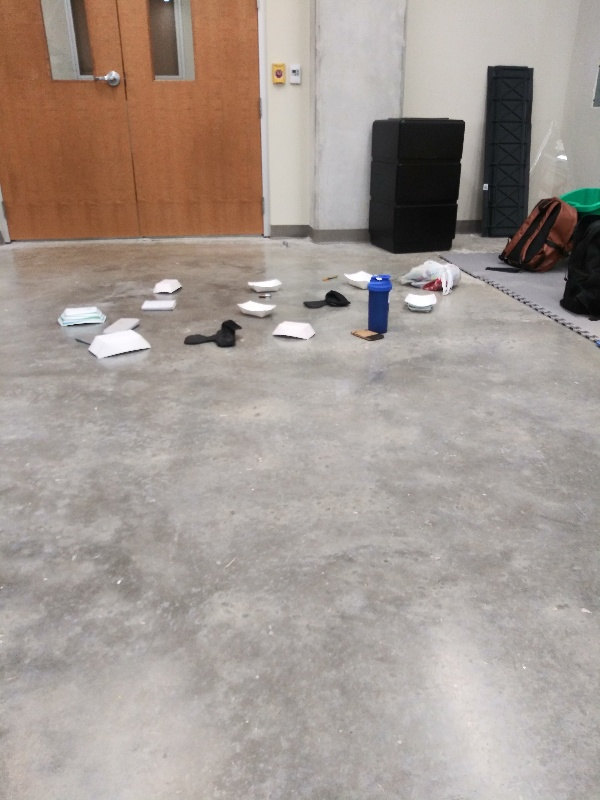plate: (83, 326, 154, 364), (52, 306, 115, 332), (271, 317, 319, 345), (400, 287, 442, 316), (231, 296, 281, 319), (147, 274, 188, 297), (337, 268, 372, 292), (243, 275, 286, 294)
